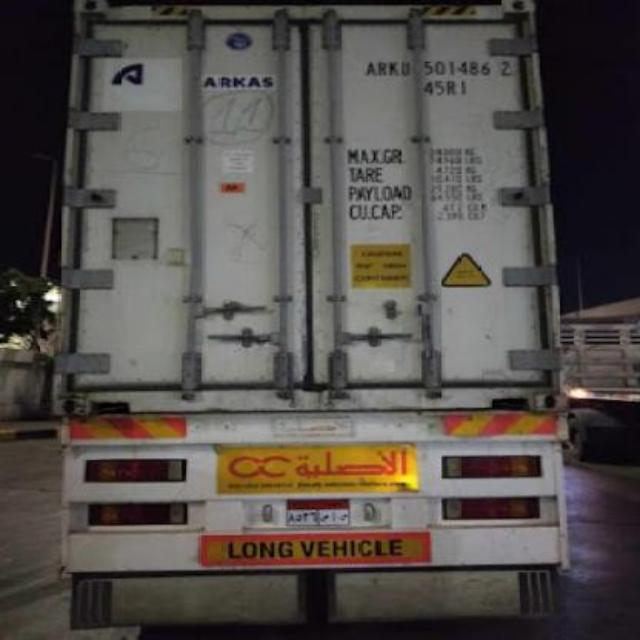0: (434, 60, 446, 76)
1: (448, 60, 456, 76)
2: (498, 60, 512, 76)
4: (456, 59, 468, 75)
5: (422, 59, 432, 77)
6: (480, 60, 492, 76)
8: (468, 58, 480, 78)
A: (364, 62, 378, 76)
K: (386, 60, 402, 76)
R: (378, 60, 388, 76)
U: (400, 59, 412, 77)
